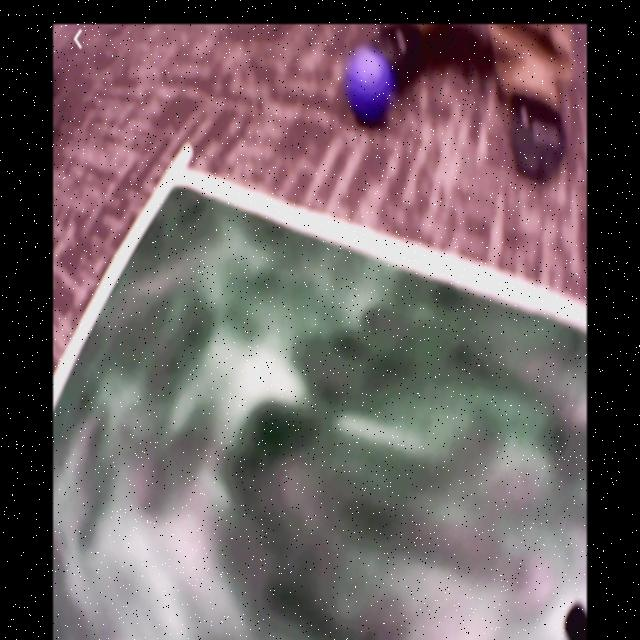ball: (346, 46, 394, 124)
